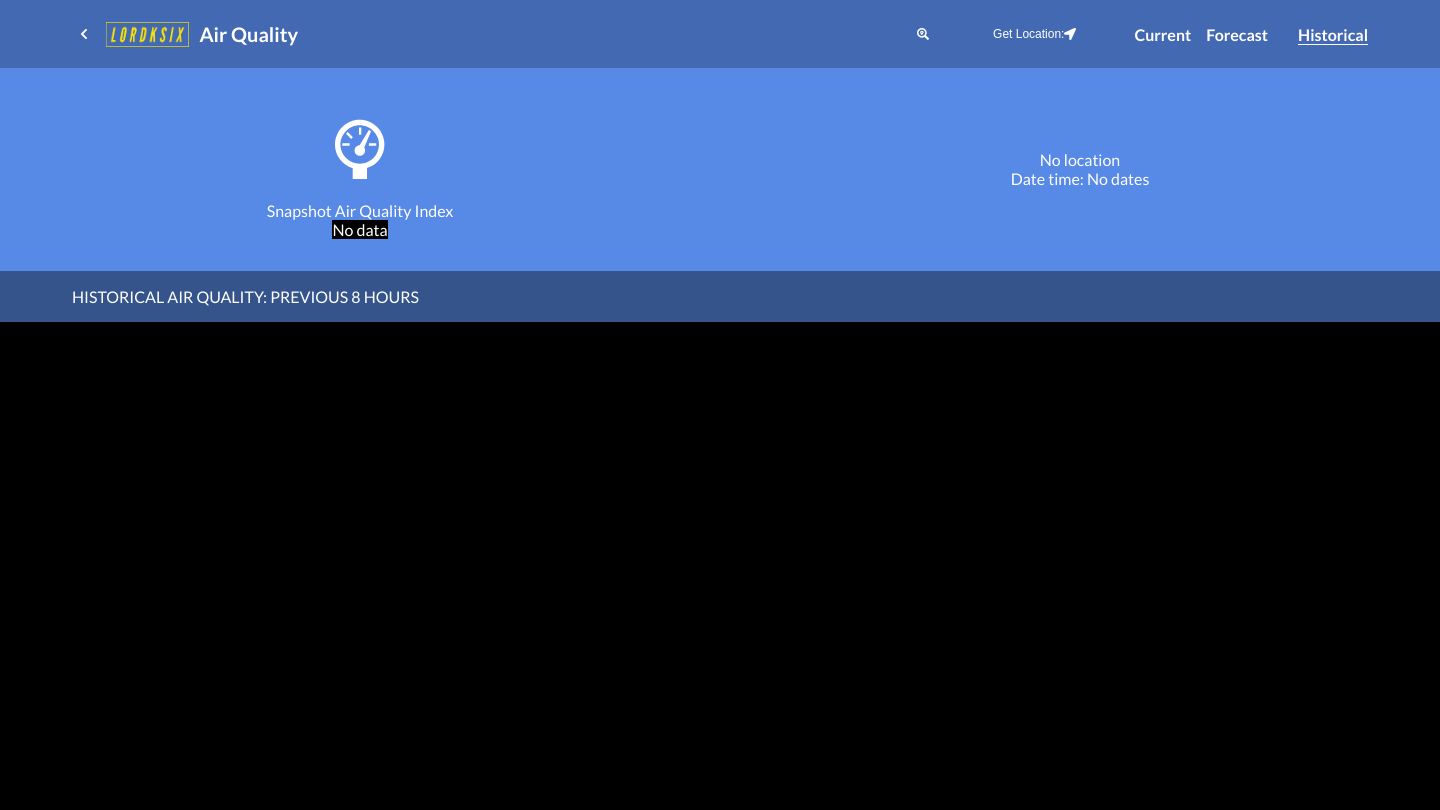
test interaction forecast › test nativation to current air quality page
Click the link titled "home" at (84, 34), box [72, 22, 96, 46]
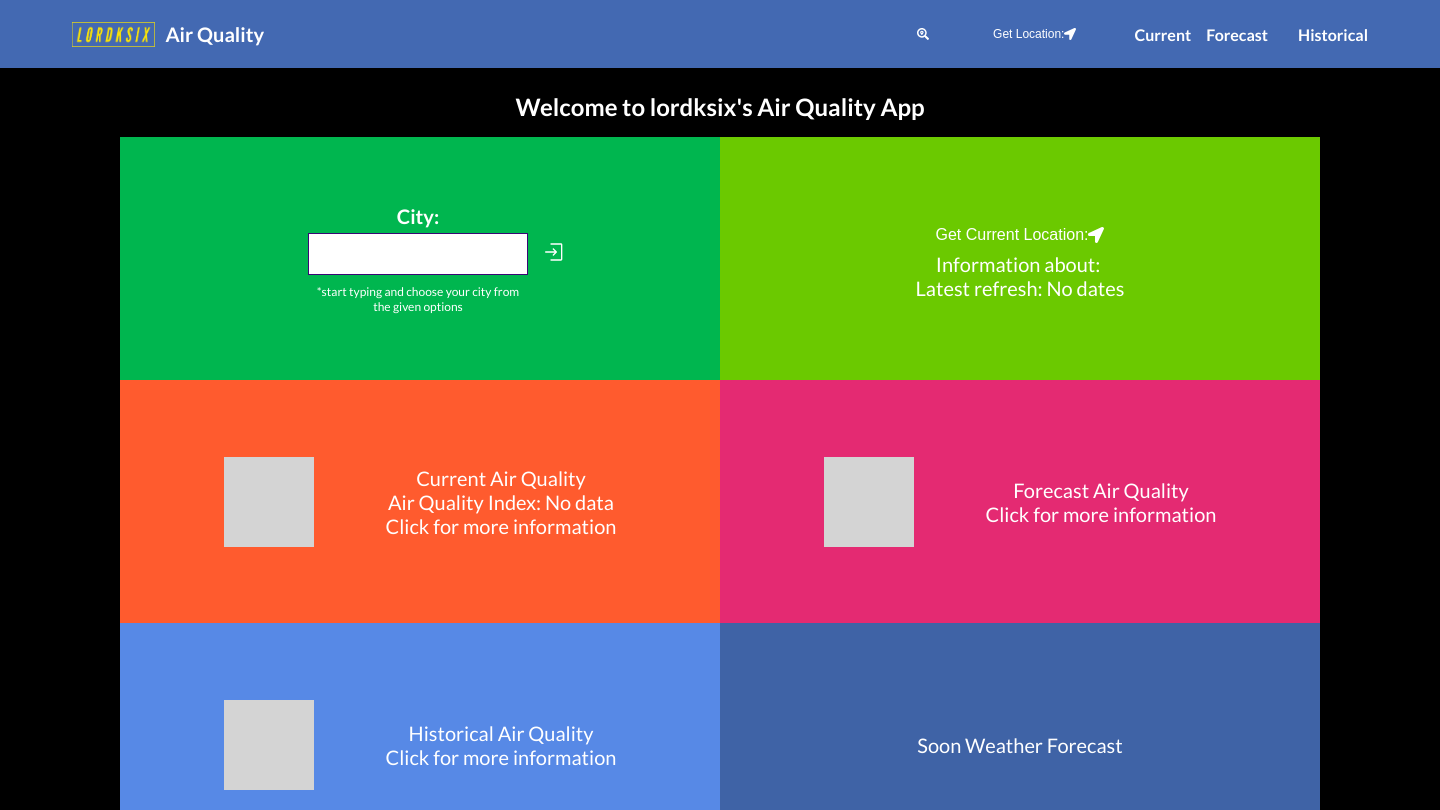
Click the link "Forecast Air Quality" at (1020, 502), box [824, 457, 1216, 547]
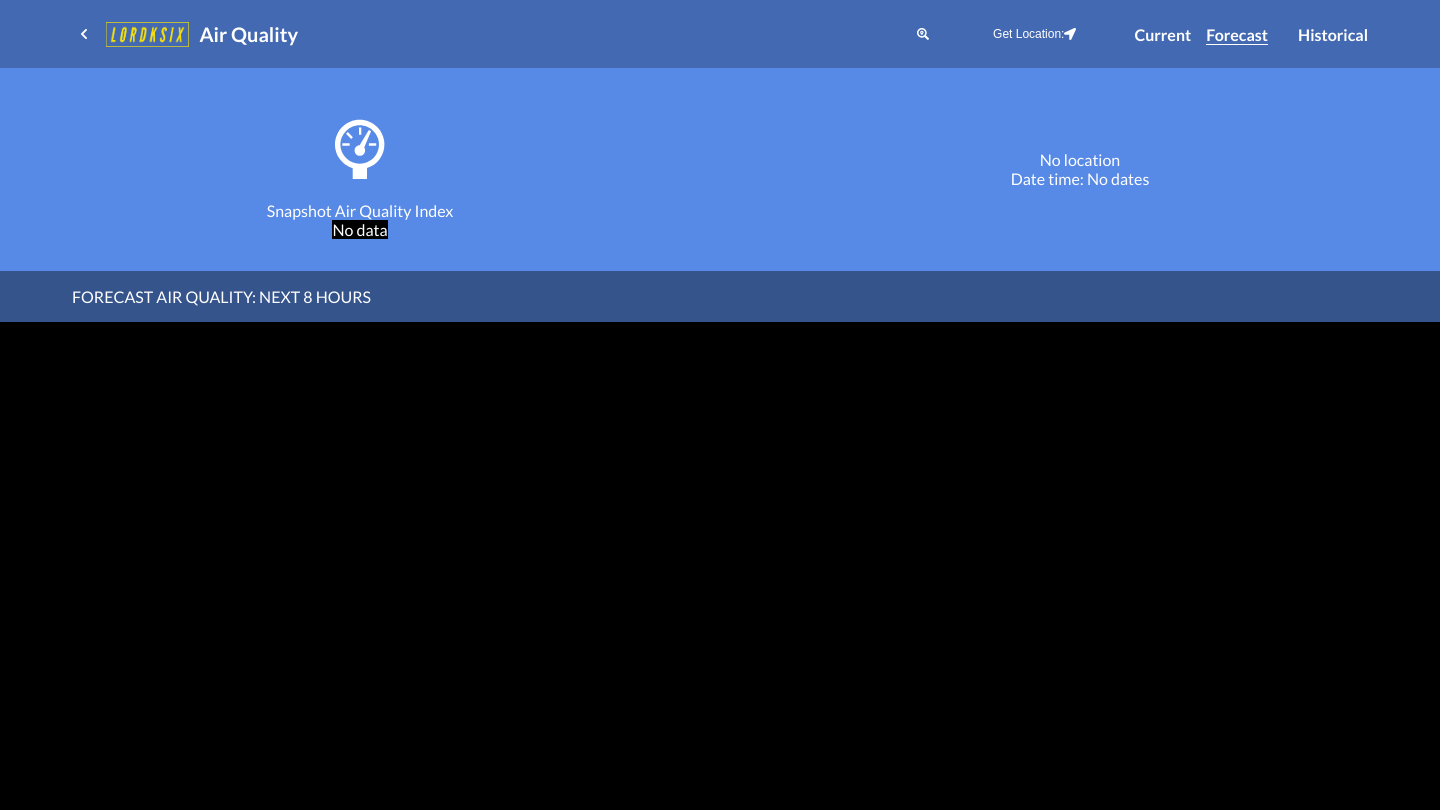
Expected: the text "FORECAST AIR QUALITY: NEXT 8 HOURS" is shown, [72, 287, 371, 306]
